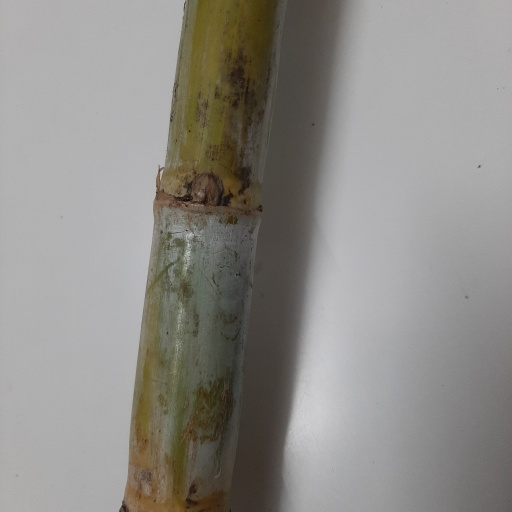Bud: (191, 172, 222, 205)
